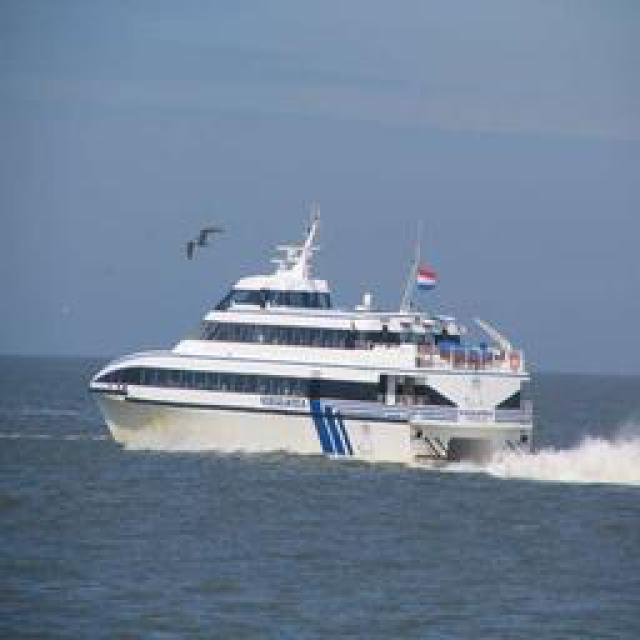Ship: (95, 210, 548, 465)
